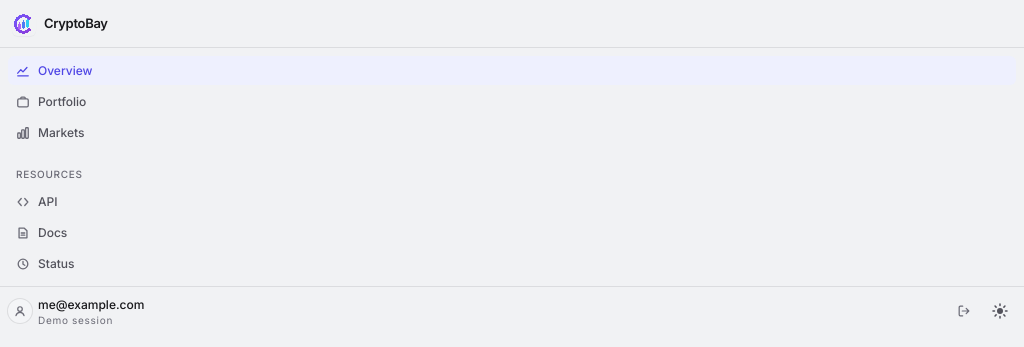
Test: sidebar account row › shows the identity and a sign-out control once signed in
The image size is (1024, 347).
Expected: the text "me@example.com" is shown, 38,296 -> 144,312
Expected: the text "guest" is not shown
Click the button named "sign out": coordinates (964, 311) 950,297 -> 978,325
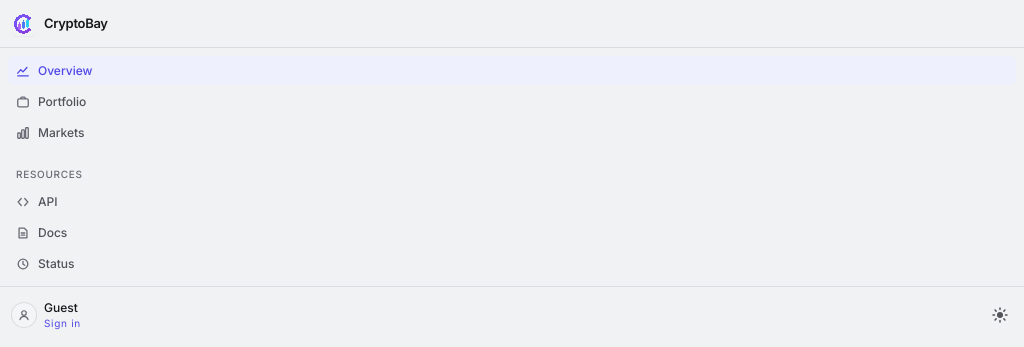
Now the text "Guest" is shown, box 44,300 -> 78,315
